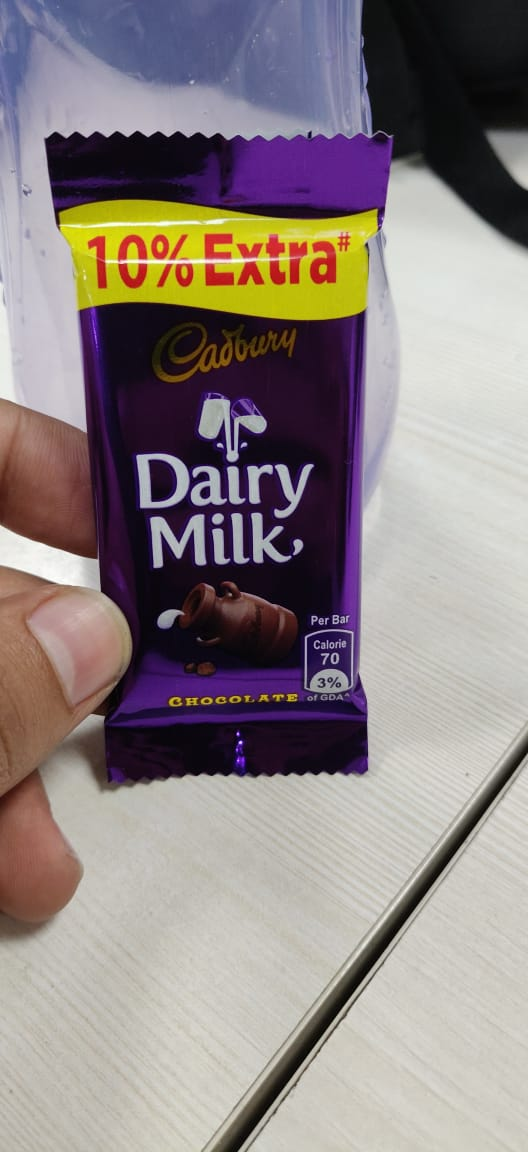dairy milk: (36, 120, 403, 799)
